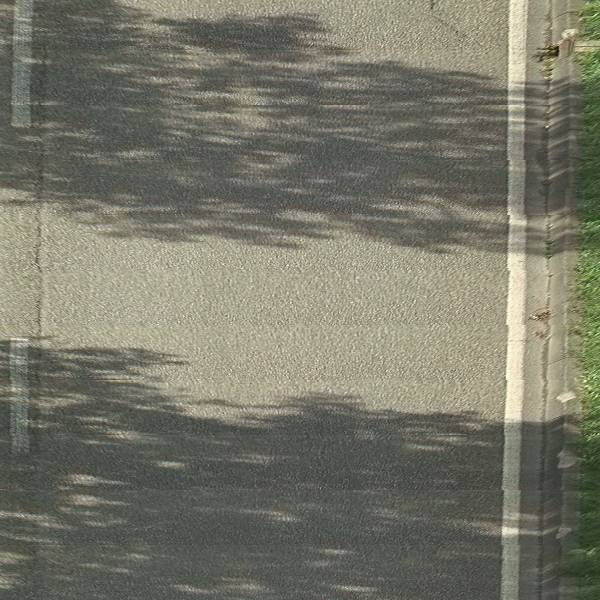road_damage: (35, 63, 47, 536)
